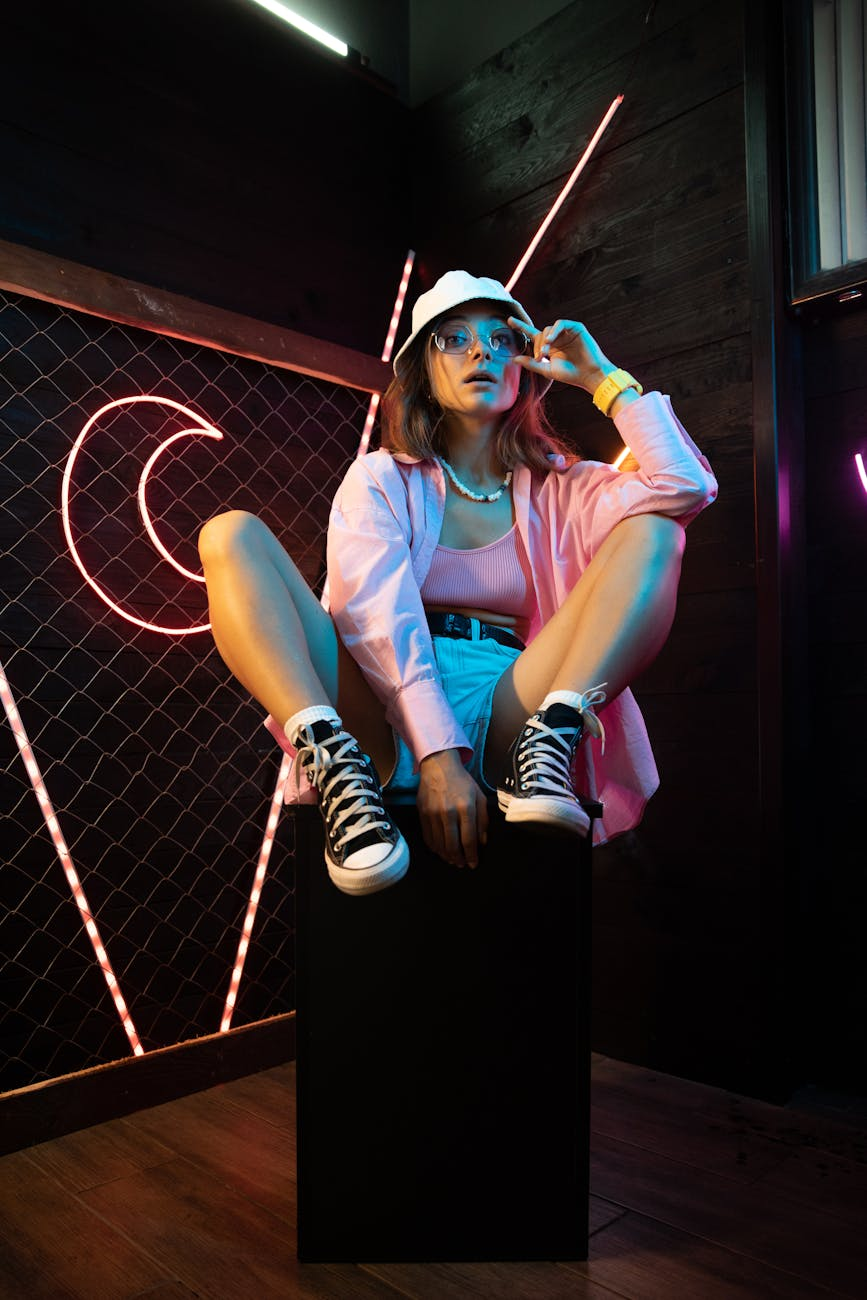crop_top: (369, 450, 590, 622)
shorts: (349, 611, 565, 793)
